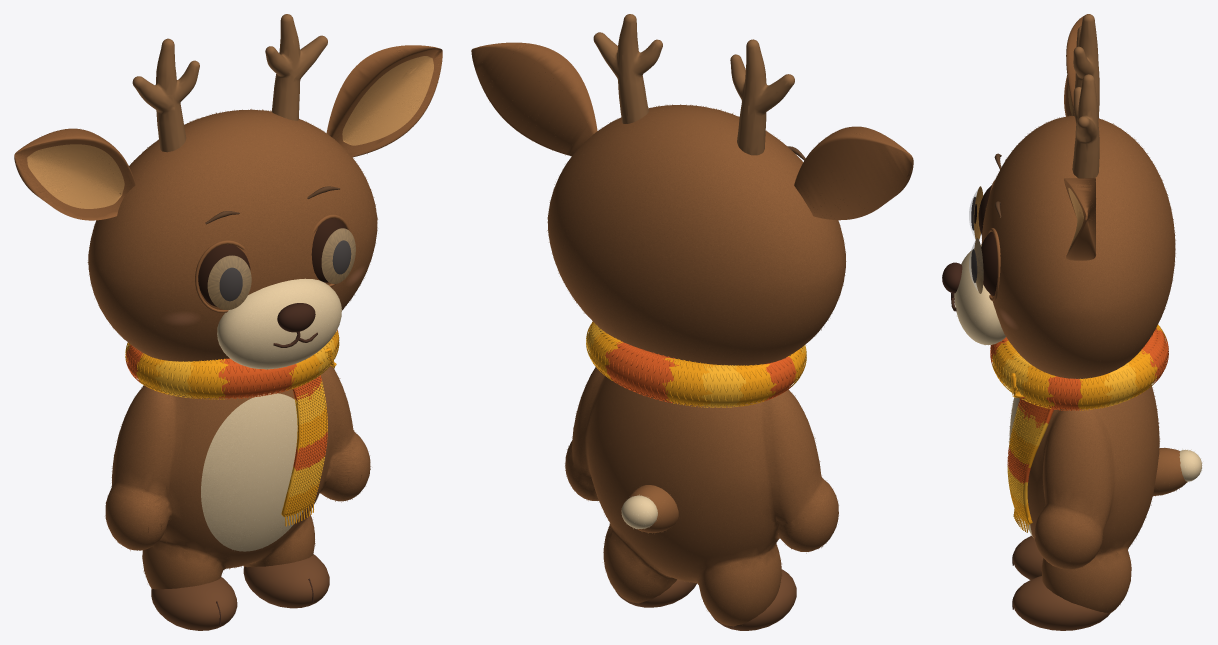
The model's file is Lili_Independent_Deer.glb.
The picture shows the model from 3 angles, left to right: view 1: azimuth 30°, elevation 25°; view 2: azimuth 150°, elevation 25°; view 3: azimuth 270°, elevation 25°; orthographic projection. The views are drawn at different scales.
Visible parts, largest first — view 1: DEER_HEAD_SCULPT_RT, DEER_BODY_CONTINUOUS_SCULPT_RT, DEER_CREAM_BELLY_FLUSH_SURFACE_RT, DEER_CREAM_MUZZLE_RT, DEER_SCARF_SOFT_CONTINUOUS_COLLAR_RT, DEER_EAR_INNER_-1_RT, DEER_EAR_INNER_1_RT, DEER_EAR_SHELL_1_RT, DEER_ANTLER_ORGANIC_-1_RT, DEER_EAR_SHELL_-1_RT, DEER_HOOF_-1_RT, DEER_HOOF_1_RT (+18 smaller); view 2: DEER_HEAD_SCULPT_RT, DEER_BODY_CONTINUOUS_SCULPT_RT, DEER_EAR_SHELL_1_RT, DEER_EAR_SHELL_-1_RT, DEER_SCARF_SOFT_CONTINUOUS_COLLAR_RT, DEER_ANTLER_ORGANIC_-1_RT, DEER_ANTLER_ORGANIC_1_RT, DEER_SCARF_COLLAR_KNIT_0_RT, DEER_SCARF_COLLAR_KNIT_1_RT, DEER_HEAD_SCULPT_FILM_FUR_RT, DEER_HOOF_-1_RT, DEER_BODY_CONTINUOUS_SCULPT_FILM_FUR_RT (+4 smaller); view 3: DEER_HEAD_SCULPT_RT, DEER_BODY_CONTINUOUS_SCULPT_RT, DEER_SCARF_SOFT_CONTINUOUS_COLLAR_RT, DEER_HOOF_1_RT, DEER_SCARF_DRAPED_TAIL_RT, DEER_CREAM_MUZZLE_RT, DEER_ANTLER_ORGANIC_1_RT, DEER_EAR_SHELL_1_RT, DEER_SCARF_COLLAR_KNIT_0_RT, DEER_ANTLER_ORGANIC_-1_RT, DEER_SCARF_COLLAR_KNIT_1_RT, DEER_TAIL_RT (+12 smaller).
Boxes of the visible parts, <box> form: DEER_HEAD_SCULPT_RT: <box>88,109,377,361</box>; DEER_BODY_CONTINUOUS_SCULPT_RT: <box>105,366,370,589</box>; DEER_CREAM_BELLY_FLUSH_SURFACE_RT: <box>201,393,302,551</box>; DEER_CREAM_MUZZLE_RT: <box>217,278,341,369</box>; DEER_SCARF_SOFT_CONTINUOUS_COLLAR_RT: <box>126,331,337,398</box>; DEER_EAR_INNER_-1_RT: <box>27,144,124,208</box>; DEER_EAR_INNER_1_RT: <box>342,56,433,145</box>; DEER_EAR_SHELL_1_RT: <box>326,45,442,157</box>; DEER_ANTLER_ORGANIC_-1_RT: <box>132,38,199,152</box>; DEER_EAR_SHELL_-1_RT: <box>14,128,135,220</box>; DEER_HOOF_-1_RT: <box>151,577,237,630</box>; DEER_HOOF_1_RT: <box>243,554,329,608</box>; DEER_HEAD_SCULPT_RT: <box>547,105,845,365</box>; DEER_BODY_CONTINUOUS_SCULPT_RT: <box>565,367,838,626</box>; DEER_EAR_SHELL_1_RT: <box>471,42,597,156</box>; DEER_EAR_SHELL_-1_RT: <box>794,126,913,220</box>; DEER_SCARF_SOFT_CONTINUOUS_COLLAR_RT: <box>587,324,805,406</box>; DEER_ANTLER_ORGANIC_-1_RT: <box>730,39,794,155</box>; DEER_ANTLER_ORGANIC_1_RT: <box>593,14,662,123</box>; DEER_SCARF_COLLAR_KNIT_0_RT: <box>587,321,806,407</box>; DEER_SCARF_COLLAR_KNIT_1_RT: <box>607,342,795,403</box>; DEER_HEAD_SCULPT_FILM_FUR_RT: <box>547,104,846,365</box>; DEER_HOOF_-1_RT: <box>711,569,796,630</box>; DEER_BODY_CONTINUOUS_SCULPT_FILM_FUR_RT: <box>565,373,838,627</box>; DEER_HEAD_SCULPT_RT: <box>981,116,1175,378</box>; DEER_BODY_CONTINUOUS_SCULPT_RT: <box>1027,385,1159,613</box>; DEER_SCARF_SOFT_CONTINUOUS_COLLAR_RT: <box>992,326,1167,409</box>; DEER_HOOF_1_RT: <box>1013,576,1109,630</box>; DEER_SCARF_DRAPED_TAIL_RT: <box>1008,373,1054,524</box>; DEER_CREAM_MUZZLE_RT: <box>954,245,1005,344</box>; DEER_ANTLER_ORGANIC_1_RT: <box>1072,74,1099,178</box>; DEER_EAR_SHELL_1_RT: <box>1064,178,1095,260</box>; DEER_SCARF_COLLAR_KNIT_0_RT: <box>992,324,1166,410</box>; DEER_ANTLER_ORGANIC_-1_RT: <box>1072,14,1099,118</box>; DEER_SCARF_COLLAR_KNIT_1_RT: <box>990,328,1168,410</box>; DEER_TAIL_RT: <box>1153,448,1186,495</box>.
Size of the model in its own units: 2.37 by 3.06 by 1.29.
Materials: 17 (4 with a texture image).
